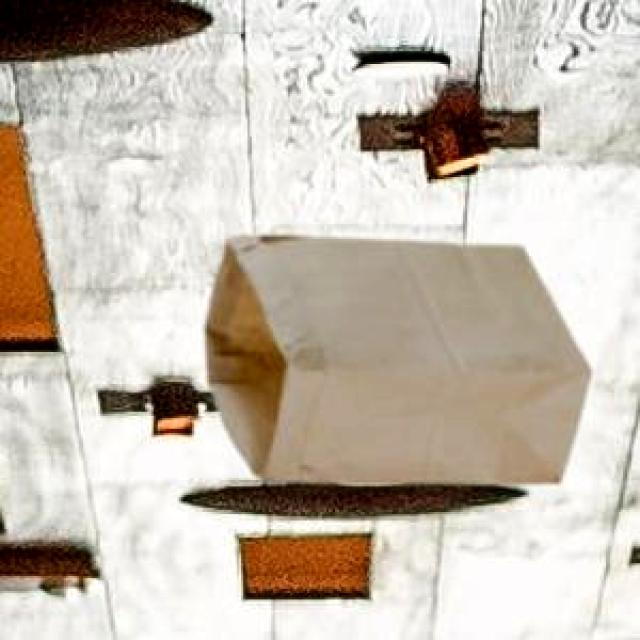Paper_Bag: (203, 234, 588, 482)
